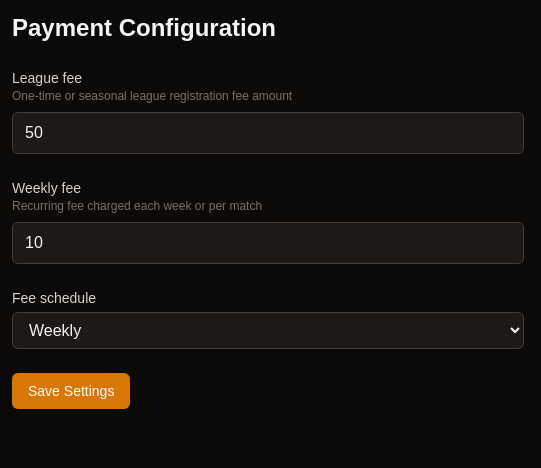
Test: PaymentConfigPage › shows saved confirmation after successful save
The width and height of the screenshot is (541, 468).
Step 1. Click the button "Save Settings" → (71,391), box [12,373,130,409]
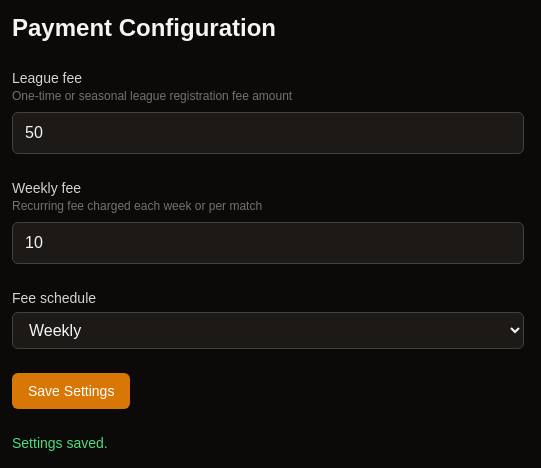
expect the text "Settings saved." is shown: met, box [12,435,108,451]
